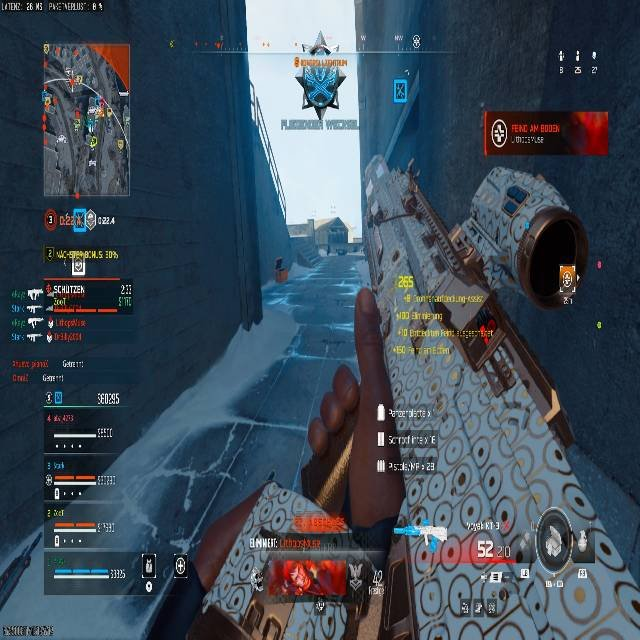player: (293, 48, 345, 118)
